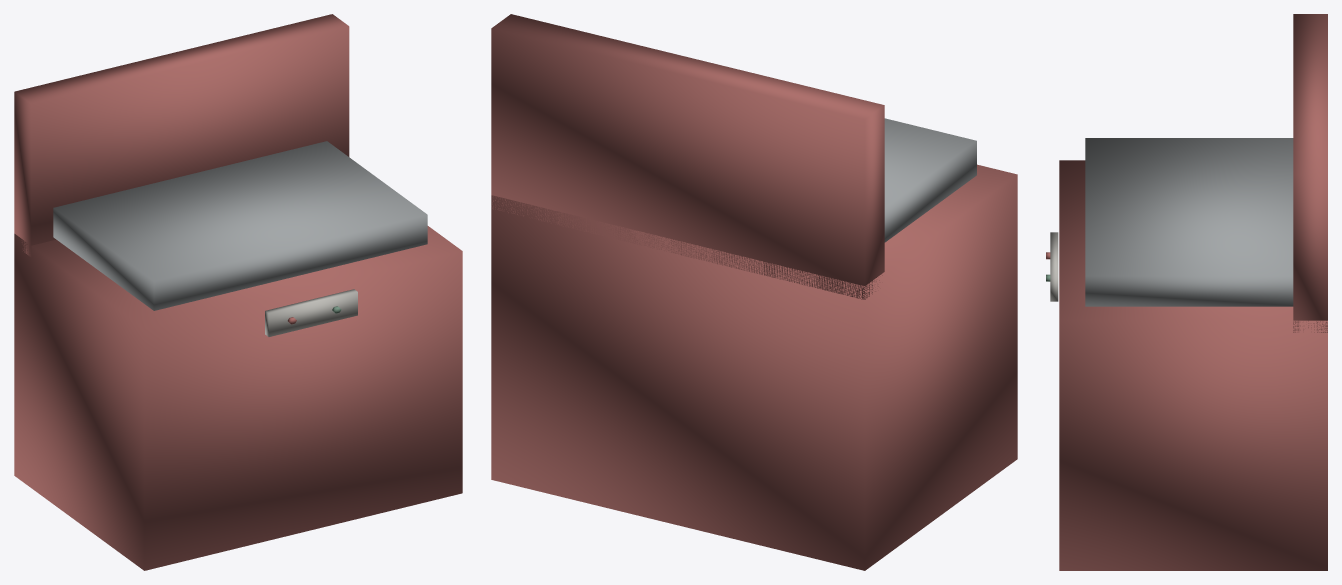
Rendered from parts_washer__squat.glb.
3 views of the same model, side by side, from view 1: azimuth 30°, elevation 25°; view 2: azimuth 150°, elevation 25°; view 3: azimuth 270°, elevation 25° (orthographic). The views are drawn at different scales.
Parts seen in each view (by area): view 1: world; view 2: world; view 3: world.
Boxes of the visible parts, <box> form: world: <box>14,14,462,570</box>; world: <box>491,14,1017,570</box>; world: <box>1046,14,1327,570</box>.
Size of the model in its own units: 0.946 by 1.09 by 0.7031.
